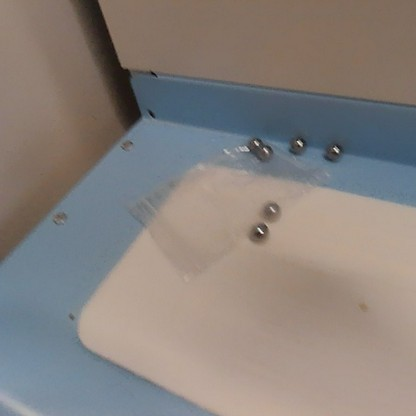ironball: (248, 219, 272, 247), (320, 140, 346, 165), (260, 197, 283, 223), (285, 132, 309, 156), (255, 140, 277, 162), (244, 132, 263, 147)
